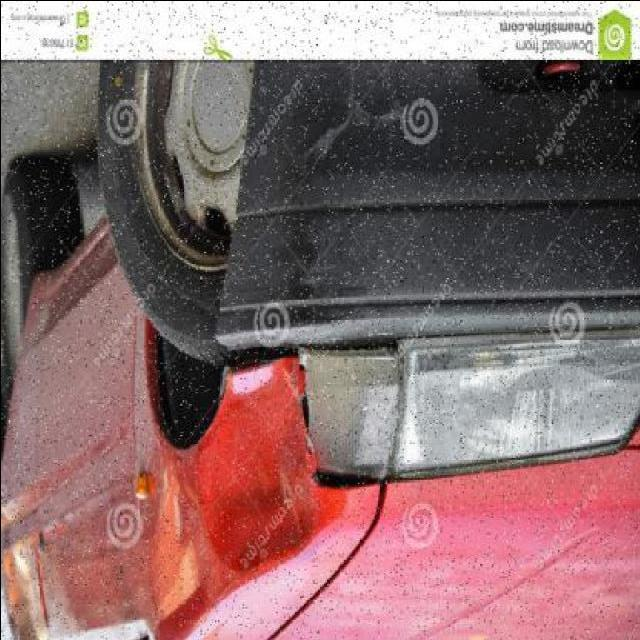fender-dent: (134, 307, 387, 625)
